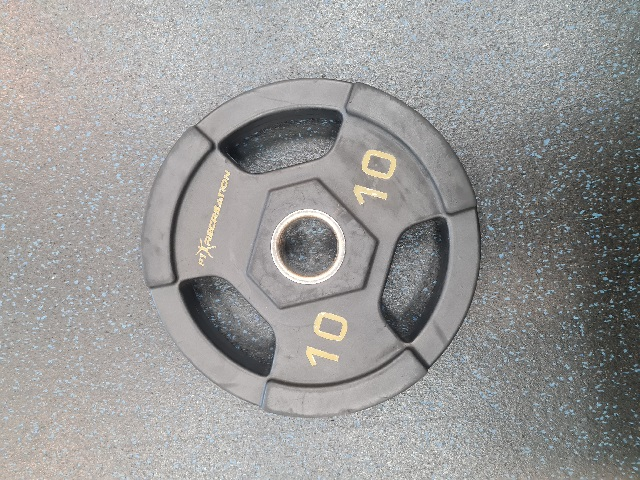weights: (140, 76, 483, 418)
